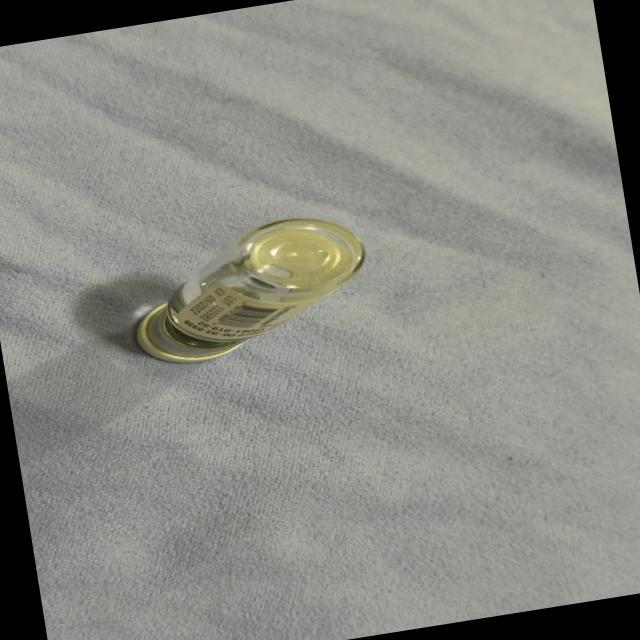fentanl_citrat: (124, 212, 373, 368)
